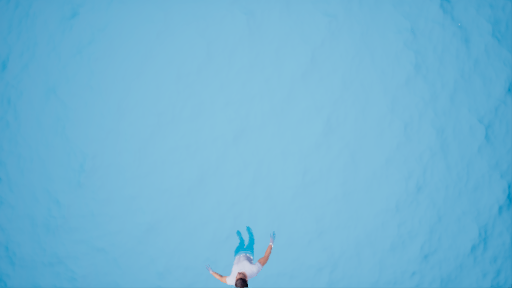person: (200, 225, 283, 288)
